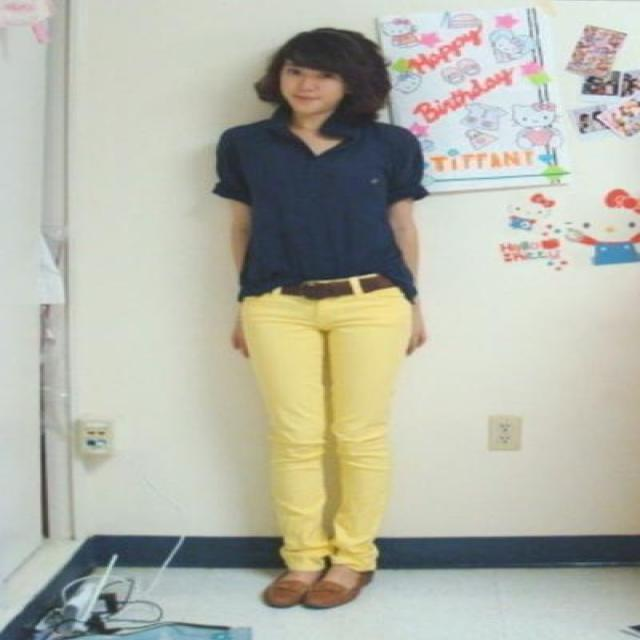pants: (234, 274, 421, 573)
shirt: (213, 118, 429, 301)
shoe: (261, 570, 373, 609)
